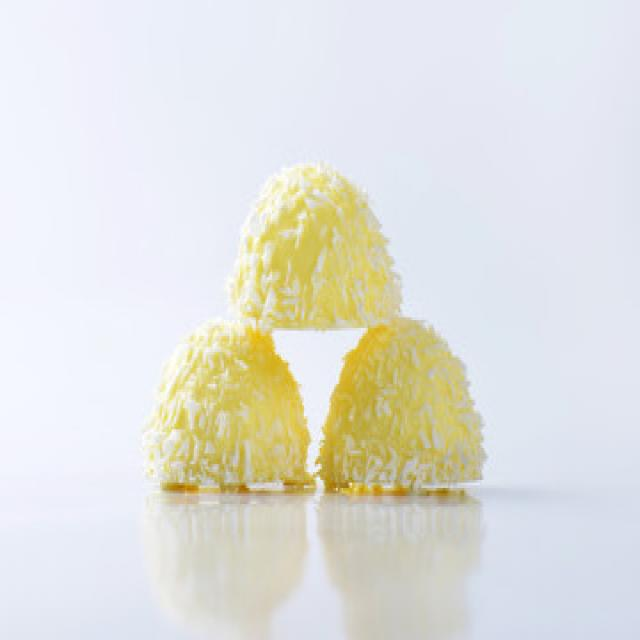chocolate: (316, 310, 494, 490), (229, 162, 410, 330), (152, 311, 314, 491)
